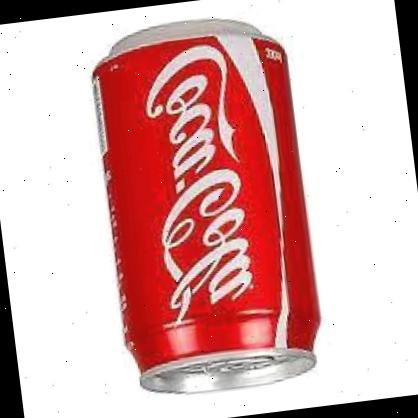can: (80, 9, 330, 404)
